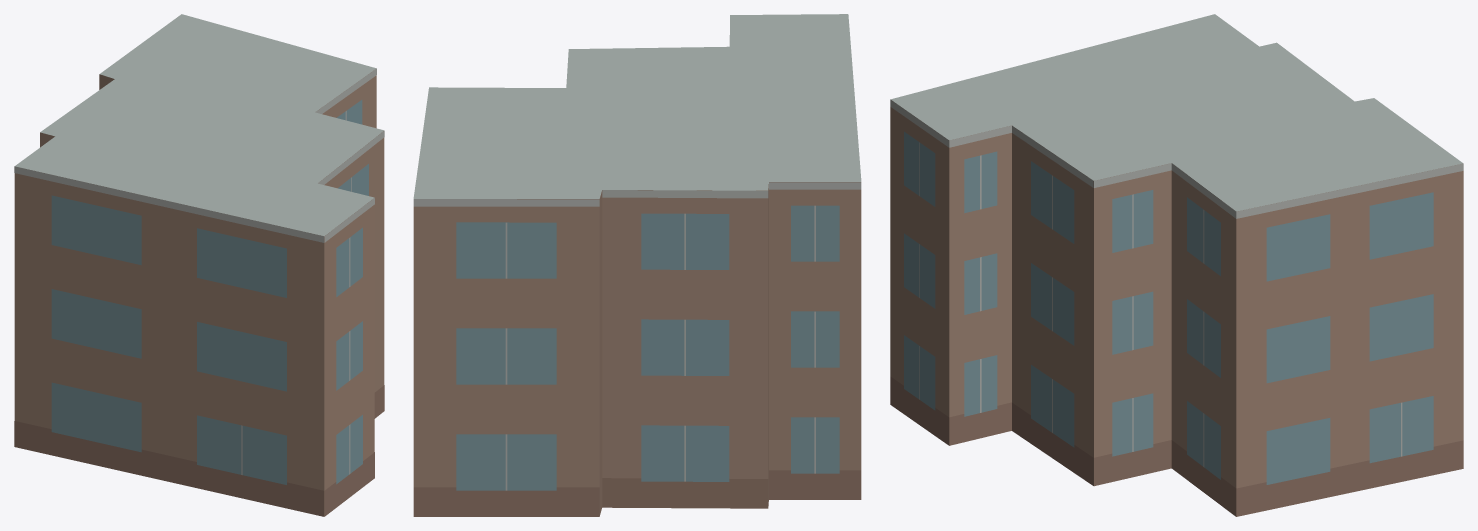
File: survey-upis-33029908.glb
The picture shows the model from 3 angles, left to right: view 1: azimuth 30°, elevation 25°; view 2: azimuth 150°, elevation 25°; view 3: azimuth 270°, elevation 25°; orthographic projection. The views are drawn at different scales.
Visible parts, largest first — view 1: survey-upis-33029908.tmp; view 2: survey-upis-33029908.tmp; view 3: survey-upis-33029908.tmp.
Part boxes in pixels (x1,y1,x2,y2): survey-upis-33029908.tmp: [14, 14, 384, 516]; survey-upis-33029908.tmp: [413, 14, 861, 516]; survey-upis-33029908.tmp: [890, 14, 1463, 516].
Bounding box in the file's own units: 14.02 × 10.1 × 17.19.
